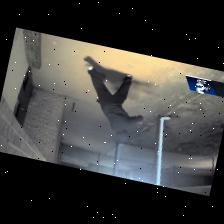person: (86, 62, 143, 141)
